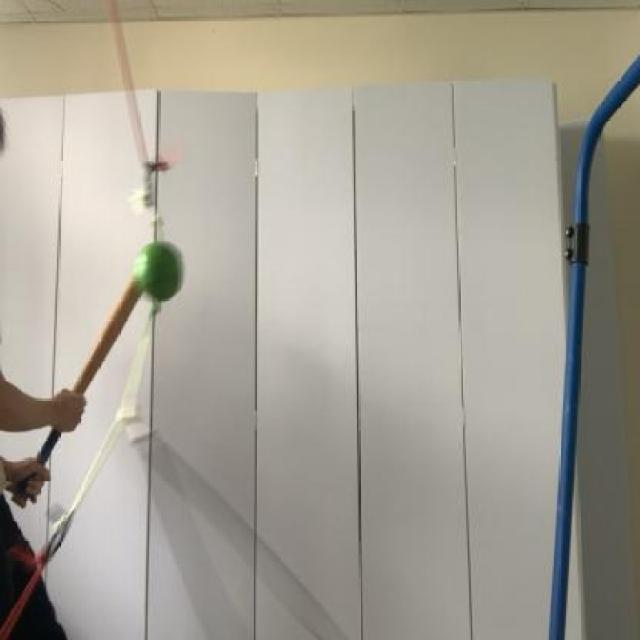baseball: (124, 231, 194, 315)
